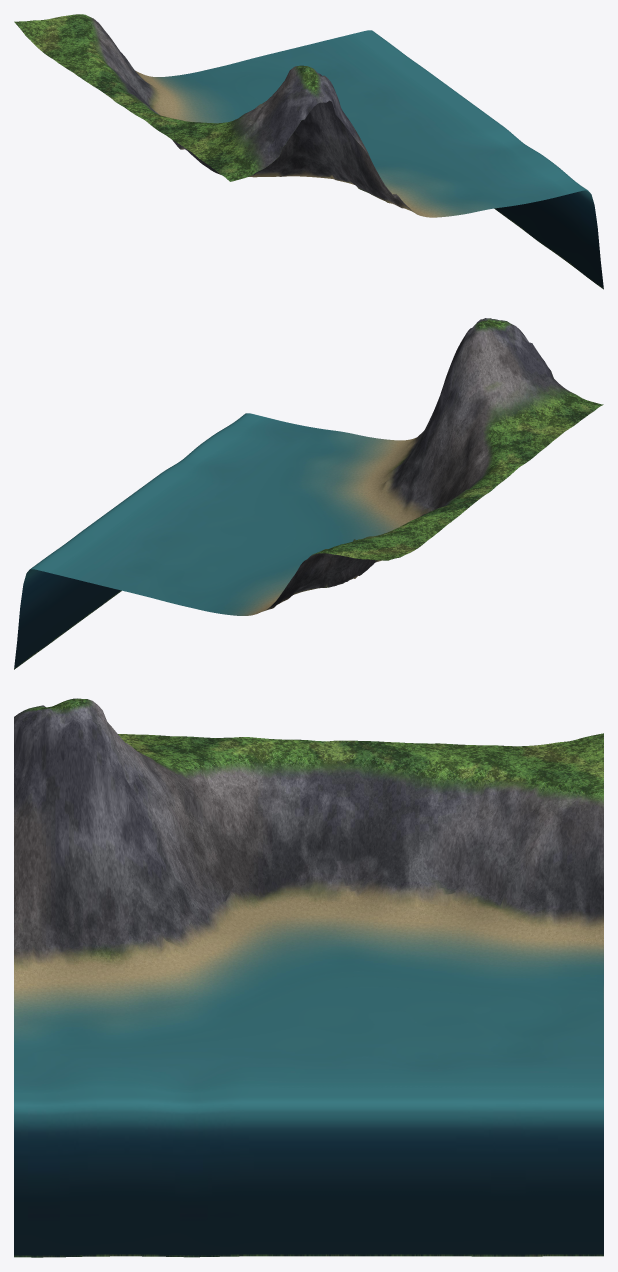
The picture shows the model from 3 angles, top to bottom: view 1: azimuth 30°, elevation 25°; view 2: azimuth 150°, elevation 25°; view 3: azimuth 270°, elevation 25°; orthographic projection. The views are drawn at different scales.
Visible parts, largest first — view 1: t192_128; view 2: t192_128; view 3: t192_128.
Boxes of the visible parts, left/top/right/bottom form: t192_128: left=14, top=14, right=603, bottom=289; t192_128: left=14, top=318, right=603, bottom=669; t192_128: left=14, top=698, right=603, bottom=1257.
Size of the model in its own units: 64 by 44.71 by 64.
1 material, 1 textured.
